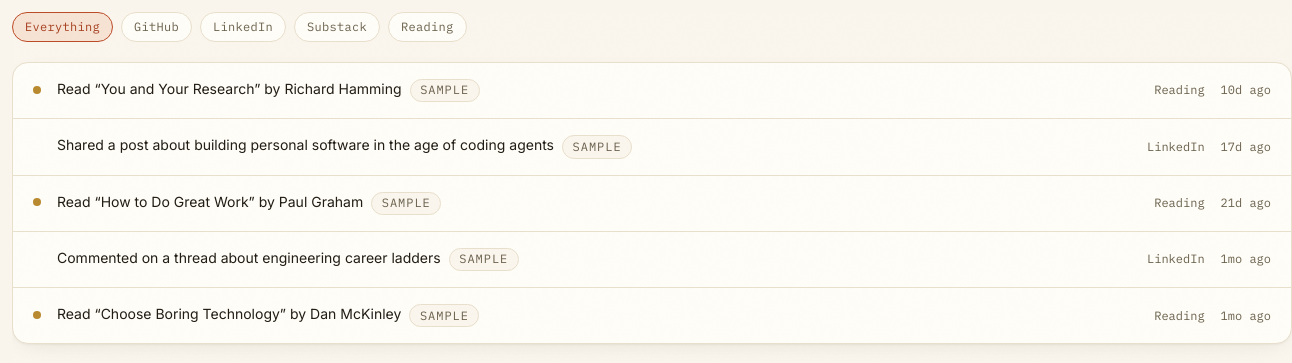
it: ActivityFeed › shows the empty state when a filter matches nothing
Click the button "GitHub".
click(156, 27)  # box [121, 12, 192, 42]
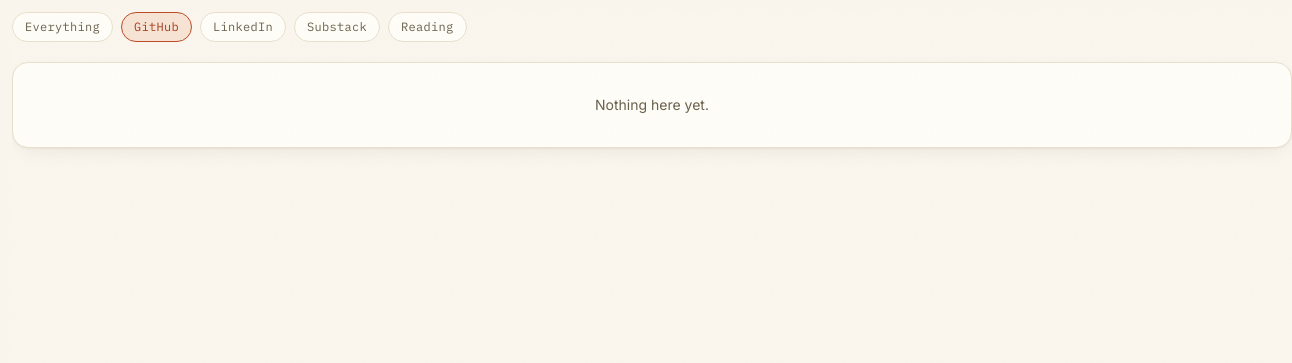
Check: the list item "Nothing here yet." is shown, box [595, 96, 709, 113]
